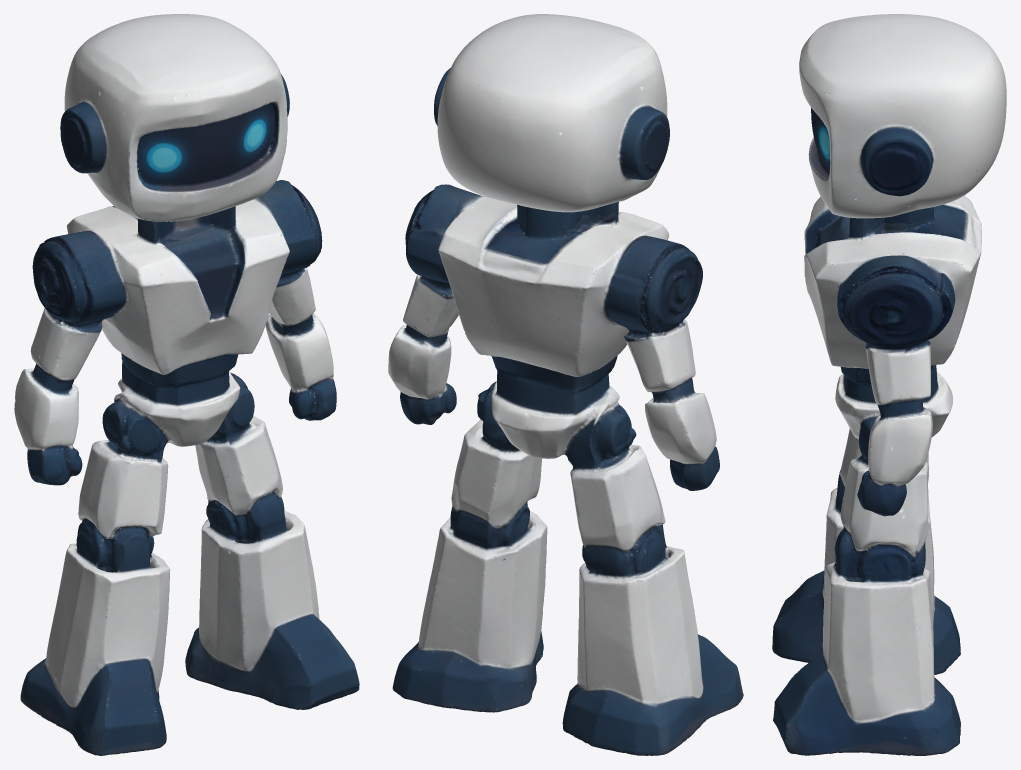
The model's file is Silver_Bot.glb.
3 renders of one model, left to right at view 1: azimuth 30°, elevation 25°; view 2: azimuth 150°, elevation 25°; view 3: azimuth 270°, elevation 25°, orthographic. The views are drawn at different scales.
Bounding box in the file's own units: 0.9754 × 2 × 0.6503.
1 material, 1 textured.
